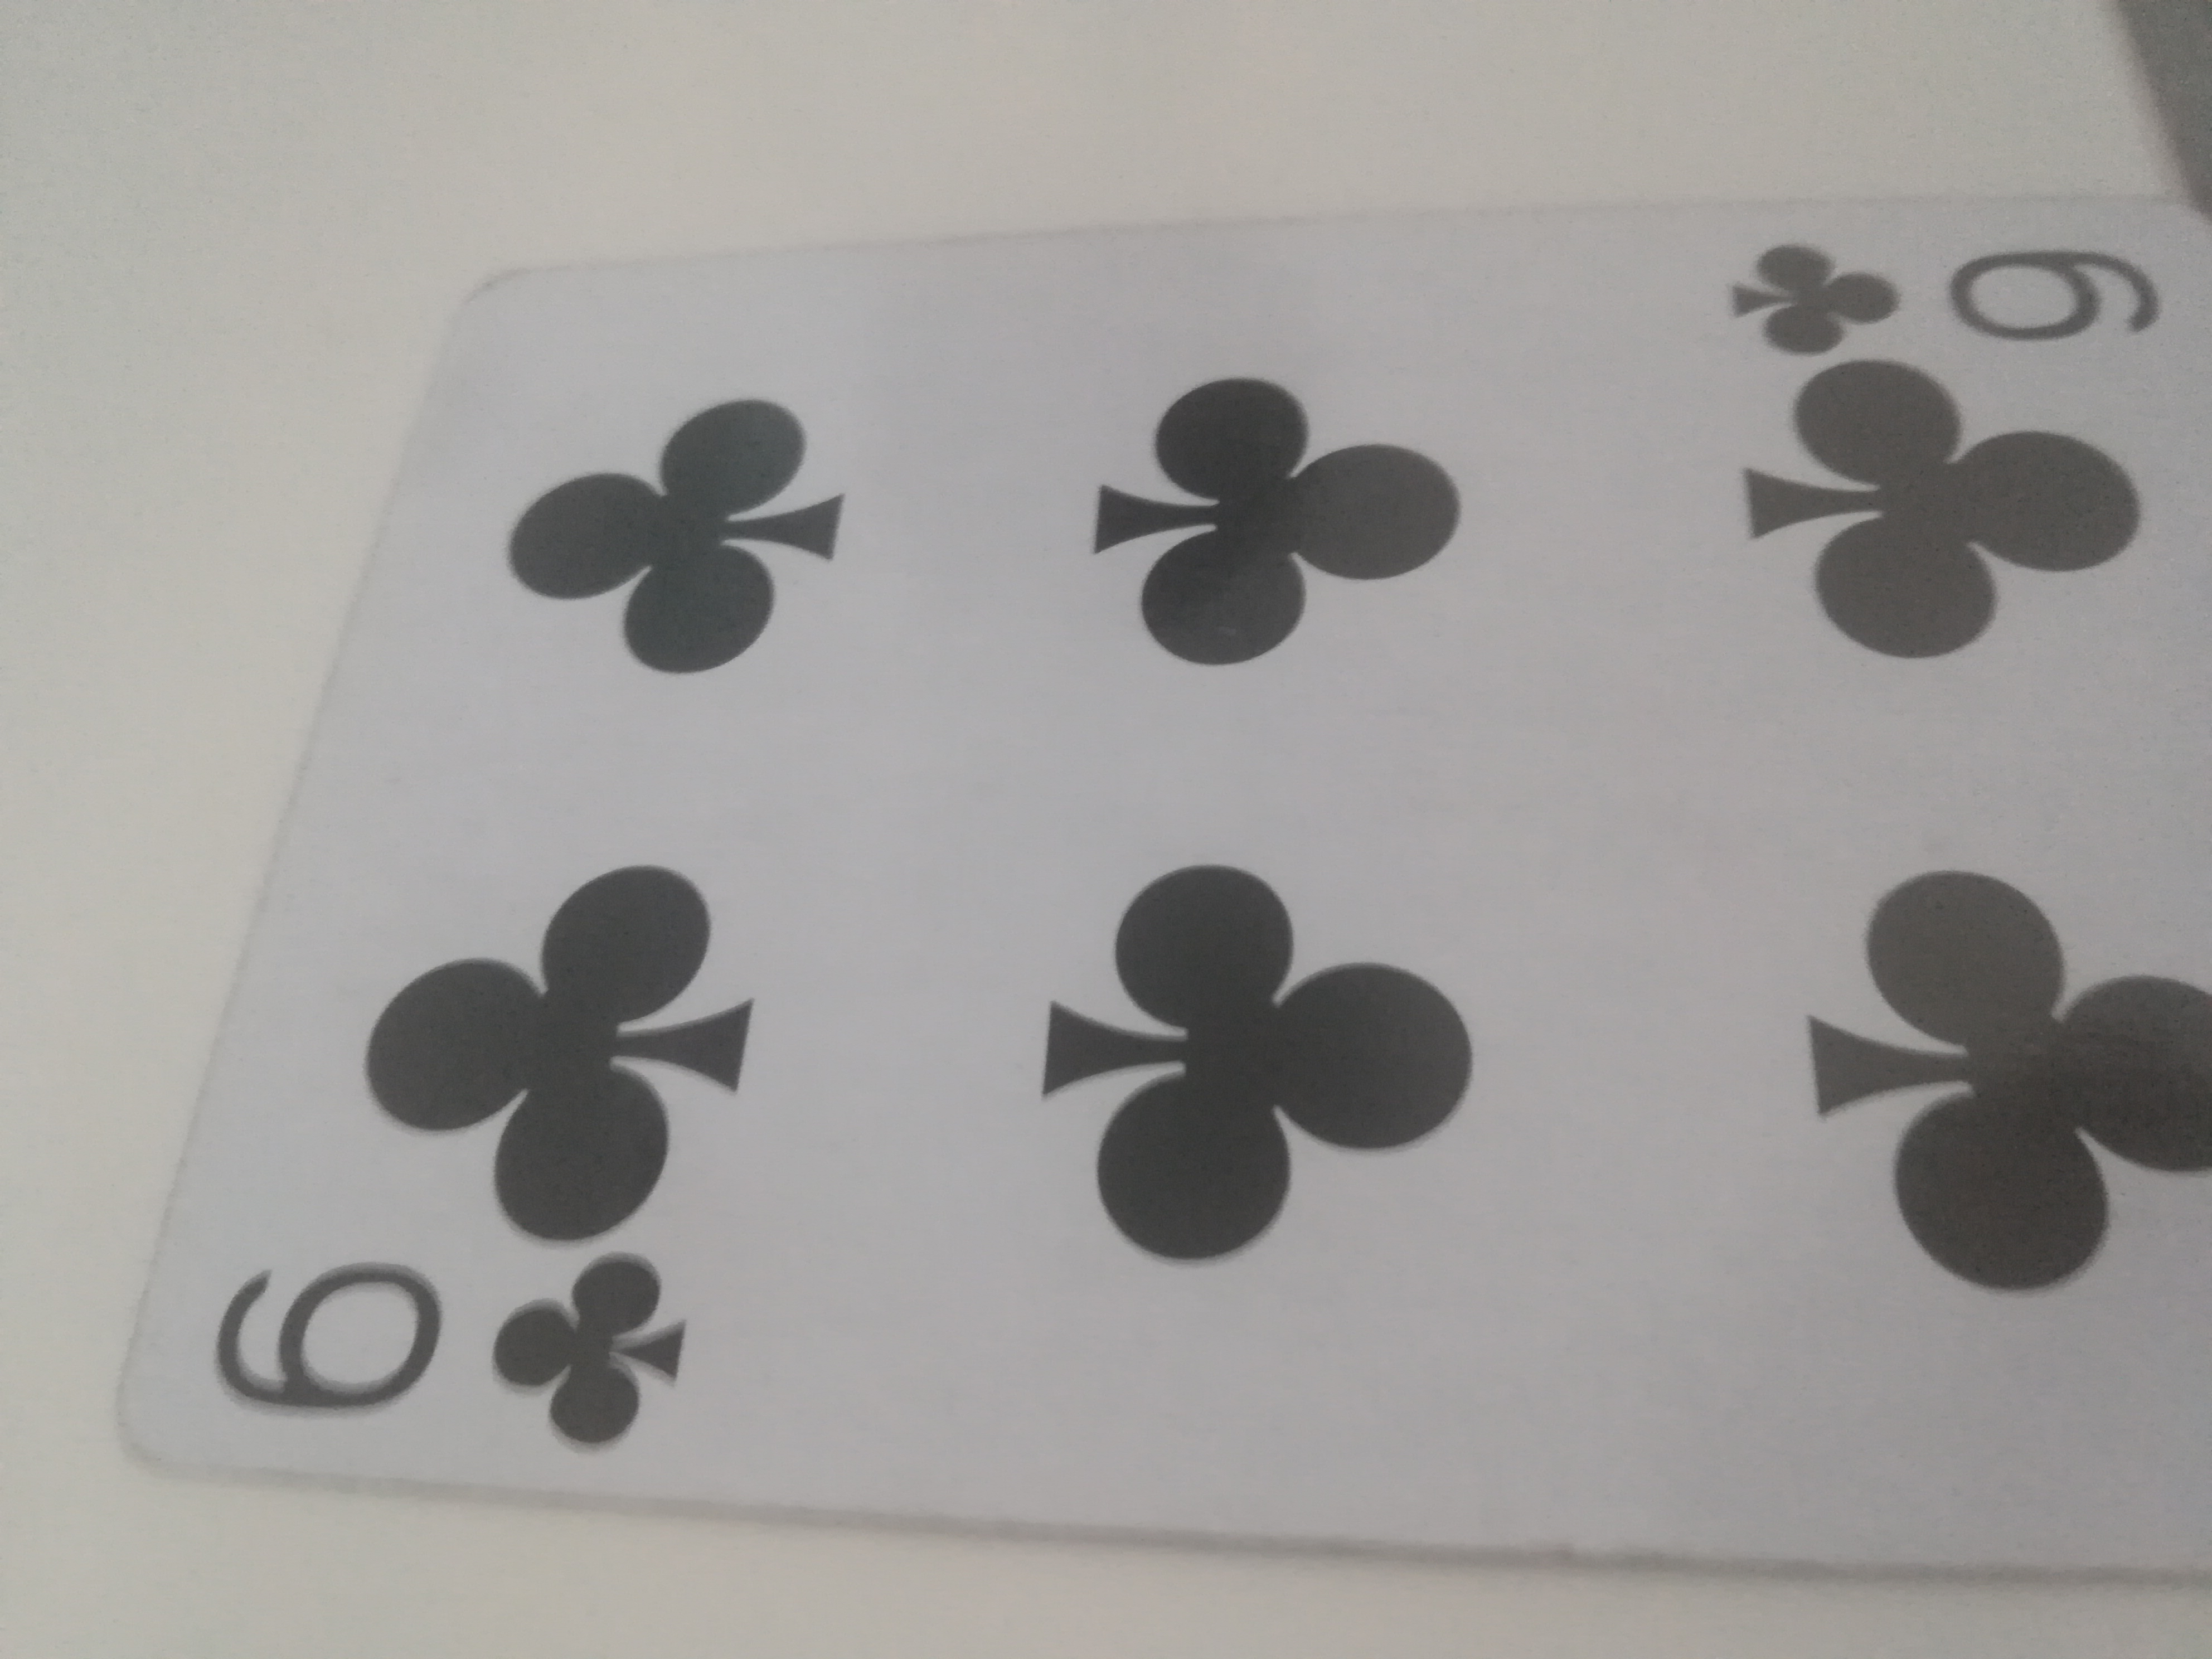6C: (124, 186, 2212, 1610)
